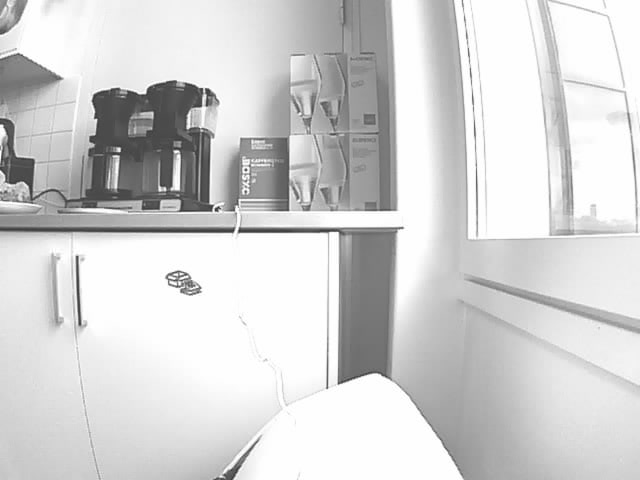not empty coffee: (83, 144, 140, 200)
